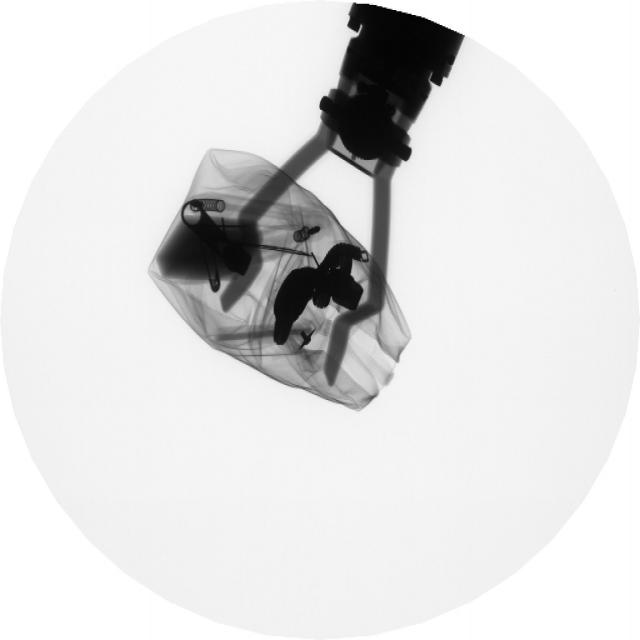BLADE: (211, 255, 258, 309)
